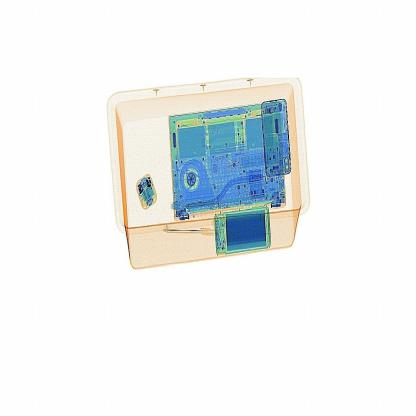wrench: (154, 224, 216, 248)
